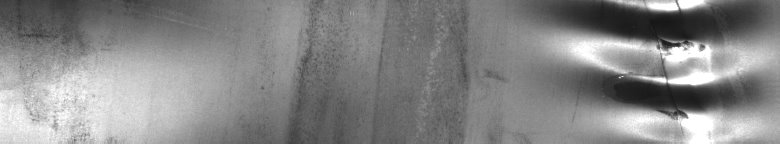ke: (566, 4, 752, 128)
